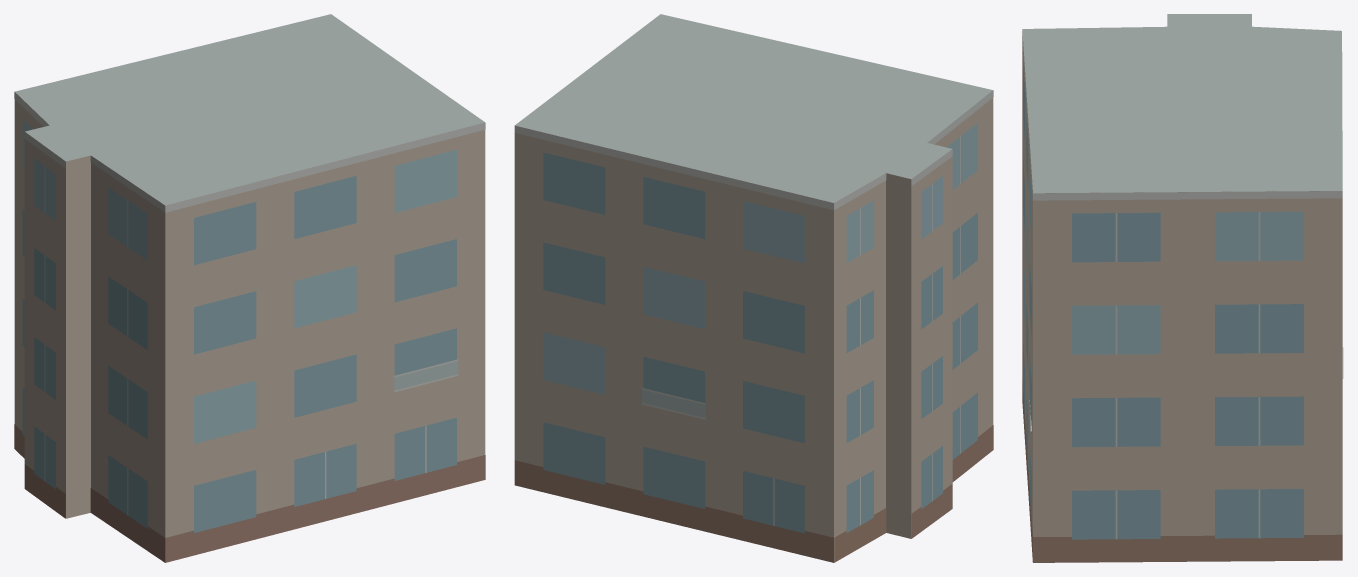
Rendered from survey-upis-32706668.glb.
3 renders of one model, left to right at view 1: azimuth 30°, elevation 25°; view 2: azimuth 150°, elevation 25°; view 3: azimuth 270°, elevation 25°, orthographic. The views are drawn at different scales.
Parts seen in each view (by area): view 1: survey-upis-32706668.tmp; view 2: survey-upis-32706668.tmp; view 3: survey-upis-32706668.tmp.
Boxes of the visible parts, bbox=[...] form: survey-upis-32706668.tmp: bbox=[14, 14, 485, 562]; survey-upis-32706668.tmp: bbox=[514, 14, 993, 562]; survey-upis-32706668.tmp: bbox=[1022, 14, 1343, 562].
Size of the model in its own units: 12.69 by 12.2 by 9.62.
